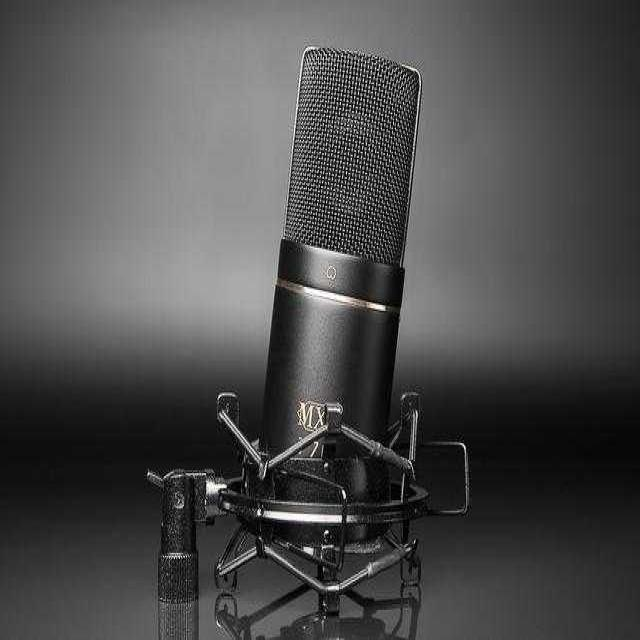microphone: (263, 47, 424, 499)
